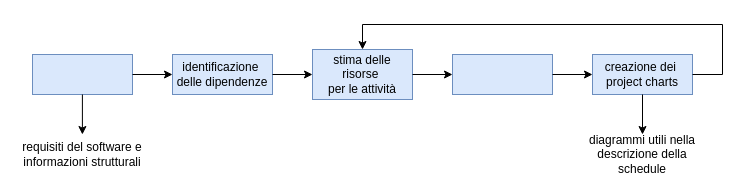
The diagram is 748 pixels wide and 193 high, and some of its shapes have lost their labels. Each missing label, with the centre of its shape:
"allocazione del personale" goes at (502,74).
"identificazione delle attività" goes at (82,74).
